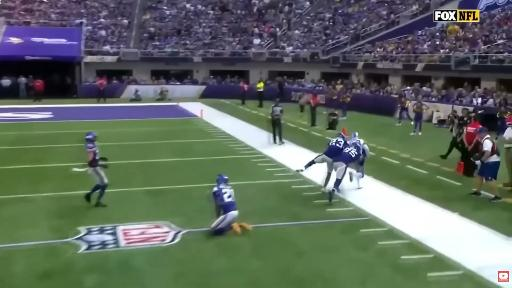Helmet: (86, 132, 97, 142), (351, 142, 362, 151), (216, 175, 228, 183), (337, 133, 345, 139), (352, 132, 358, 138)
Jersey: (213, 184, 237, 214), (334, 146, 361, 165), (324, 138, 347, 159), (349, 139, 369, 158), (86, 142, 99, 167)
Player: (297, 133, 347, 191), (211, 175, 251, 235), (329, 142, 361, 204), (85, 132, 107, 207), (349, 132, 369, 188)
